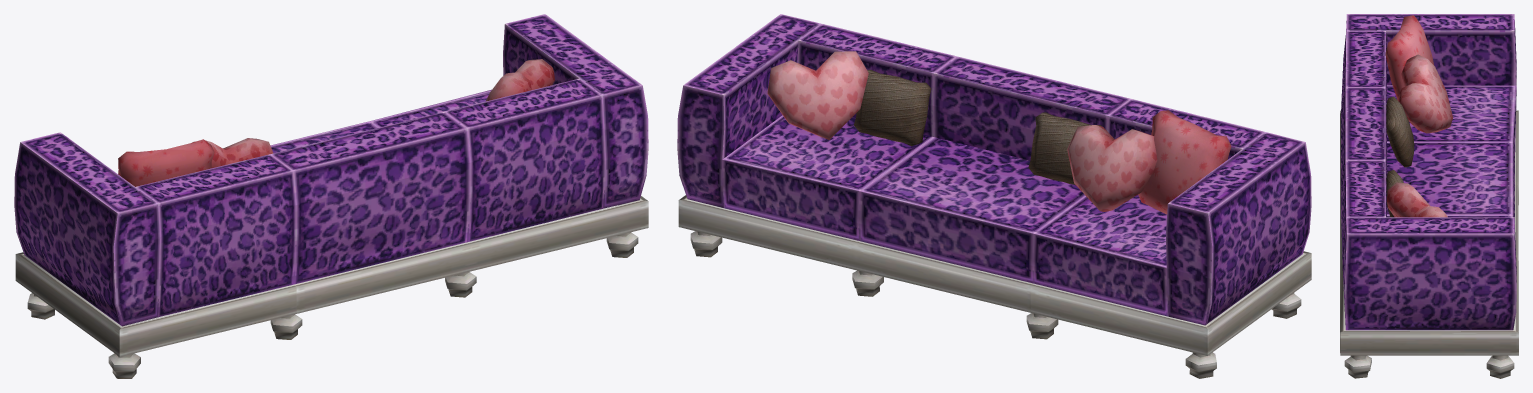
File: furni_0200098_03.FBX
The picture shows the model from 3 angles, left to right: view 1: azimuth 30°, elevation 25°; view 2: azimuth 150°, elevation 25°; view 3: azimuth 270°, elevation 25°; orthographic projection. The views are drawn at different scales.
Parts seen in each view (by area): view 1: furni_0200098_03; view 2: furni_0200098_03; view 3: furni_0200098_03.
Boxes of the visible parts, bbox=[...] form: furni_0200098_03: bbox=[14, 14, 648, 378]; furni_0200098_03: bbox=[677, 14, 1311, 378]; furni_0200098_03: bbox=[1340, 14, 1518, 378].
Bounding box in the file's own units: 237 × 82.48 × 80.07.
1 material, 1 textured.
